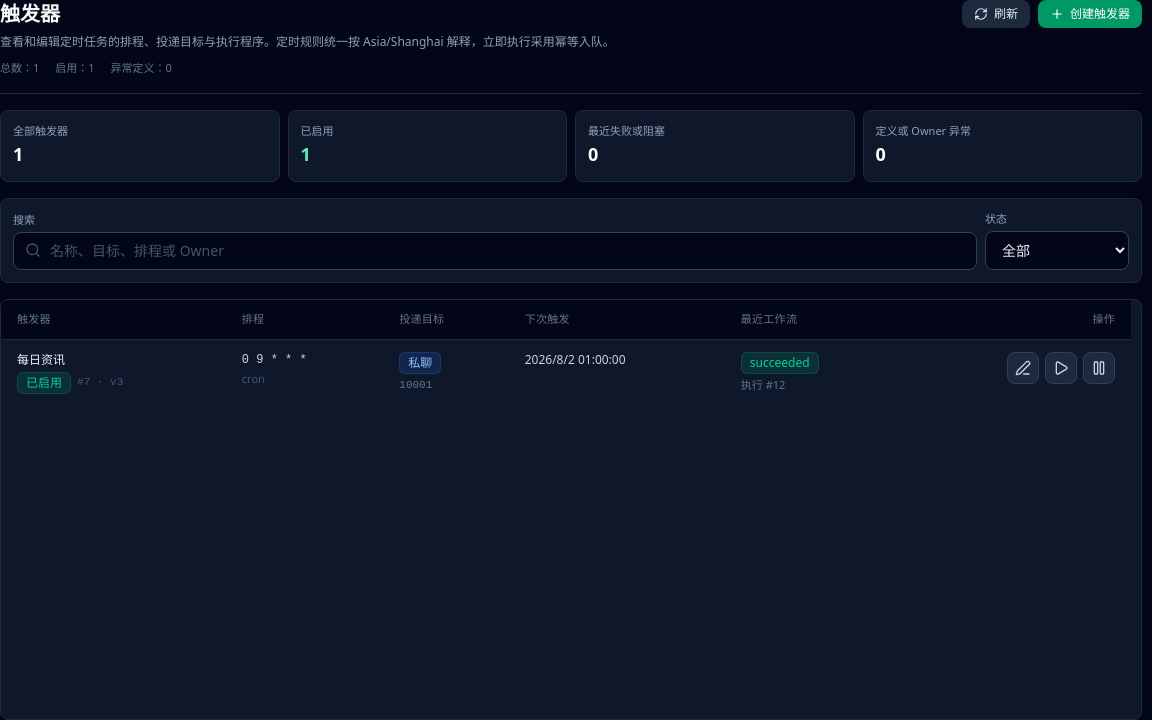
Test: 触发器管理页 › 复杂 Program 默认展示可读步骤，仅按需打开高级 JSON
The image size is (1152, 720).
expect the heading "触发器" is shown: met, box left=0, top=0, right=60, bottom=27
Click the button named "编辑 每日资讯": (1023, 368) left=1007, top=352, right=1039, bottom=384
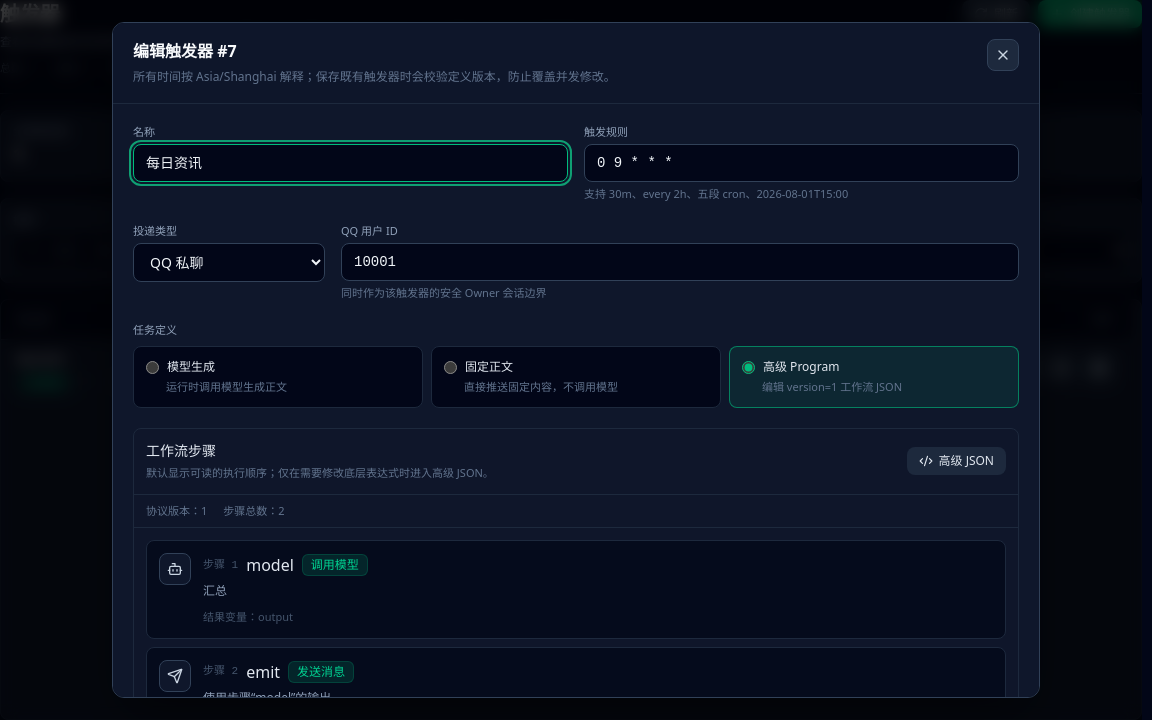
expect the field labelled "Program JSON" is not shown: met
expect the text "工作流步骤" is shown: met, box left=146, top=441, right=216, bottom=460
expect the text "调用模型" is shown: met, box left=302, top=554, right=368, bottom=576
Click the button "高级 JSON": (956, 461) left=906, top=447, right=1006, bottom=475
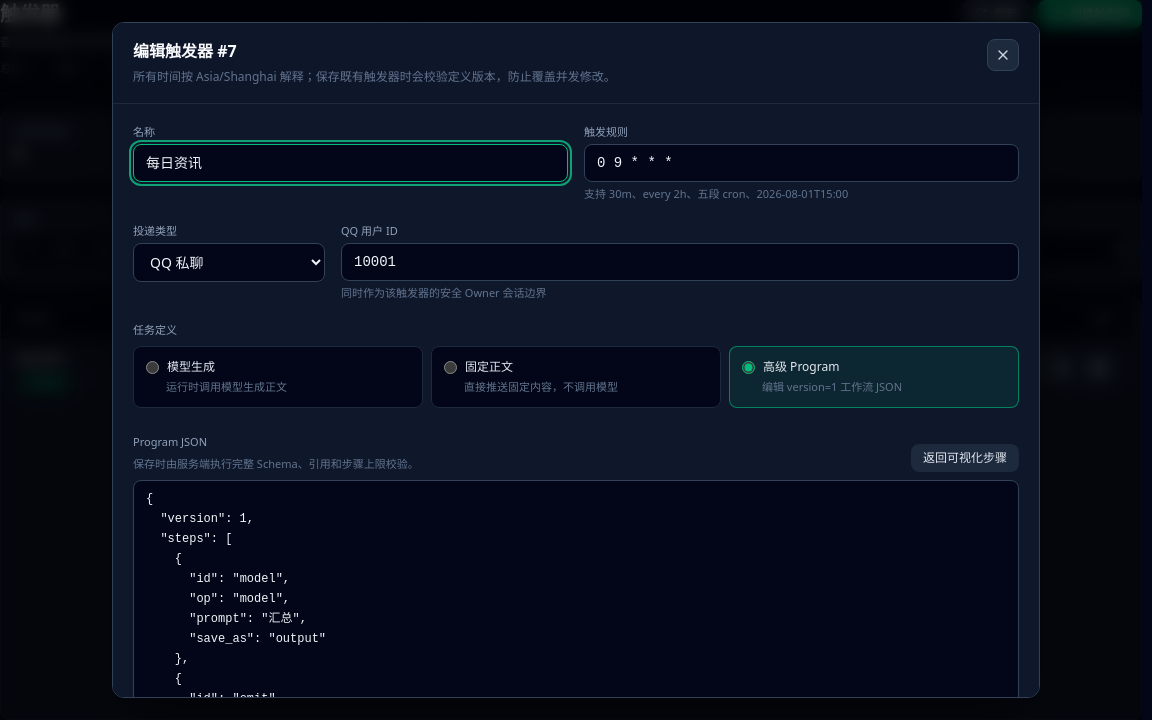
expect the button "返回可视化步骤" is shown: met, box left=911, top=444, right=1019, bottom=472
